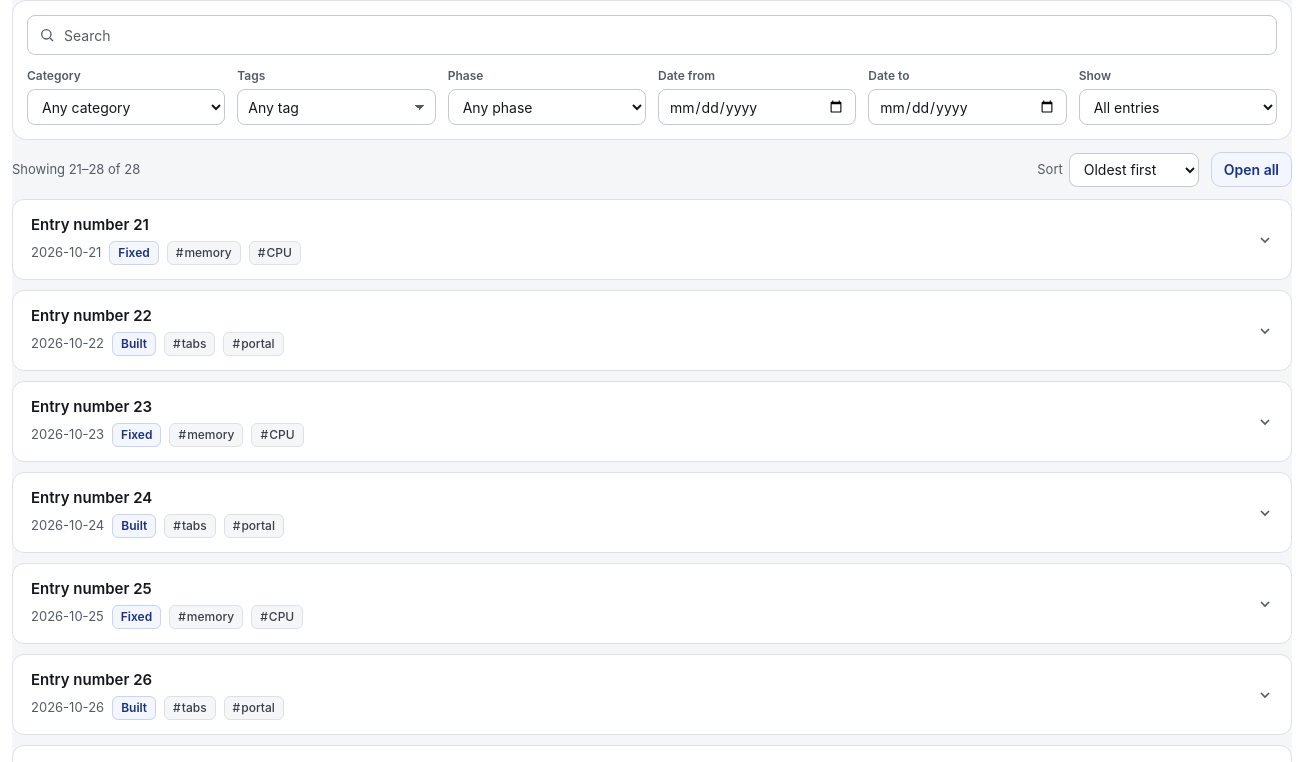
it: Browse › search: every word must appear; the page goes back to 1; the address keeps it
Type "MEMORY number 1" into the search field named "Search the entries".
click(652, 35); type("MEMORY number 1")  # box [27,15,1277,55]
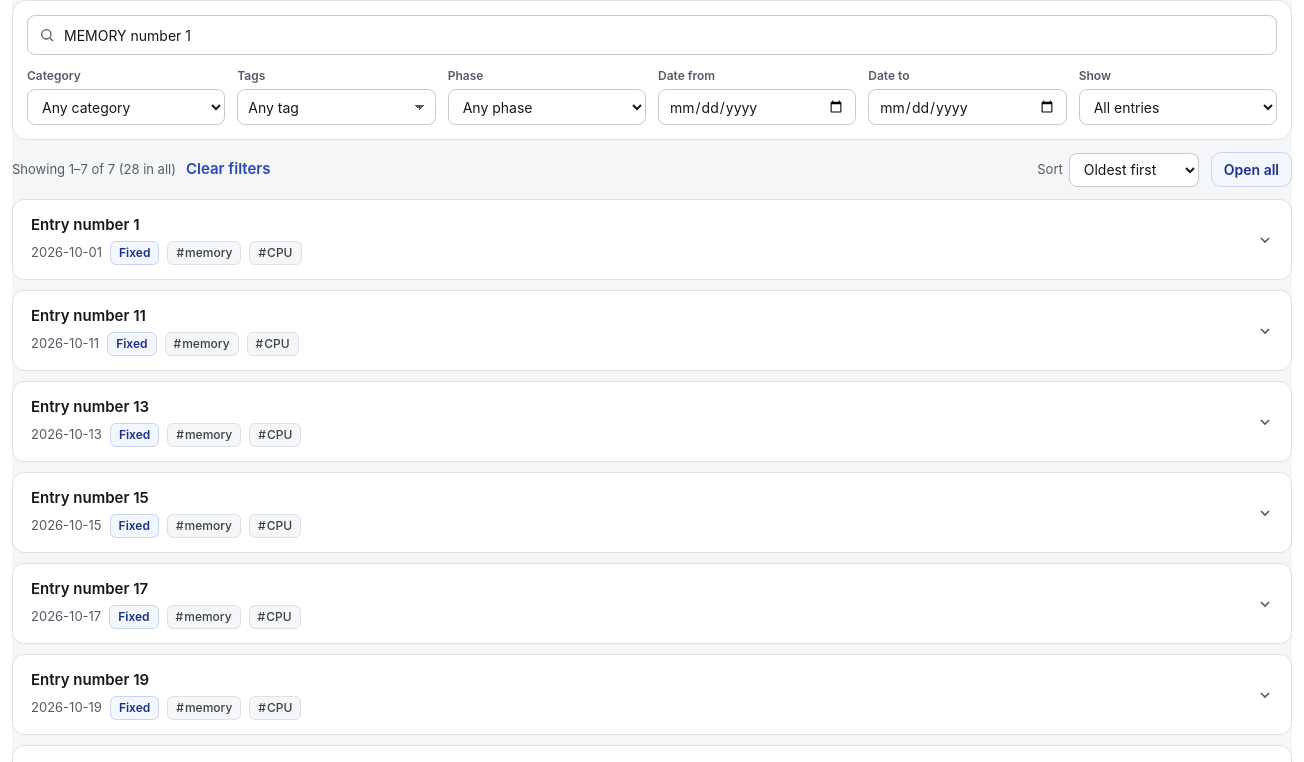
Now the text with test id "log-count" reads "Showing 1–7 of 7 (28 in all)", box [12,161,176,177]
